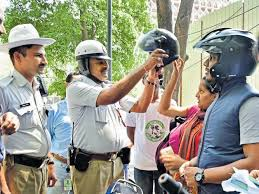helmet: (193, 27, 259, 87)
